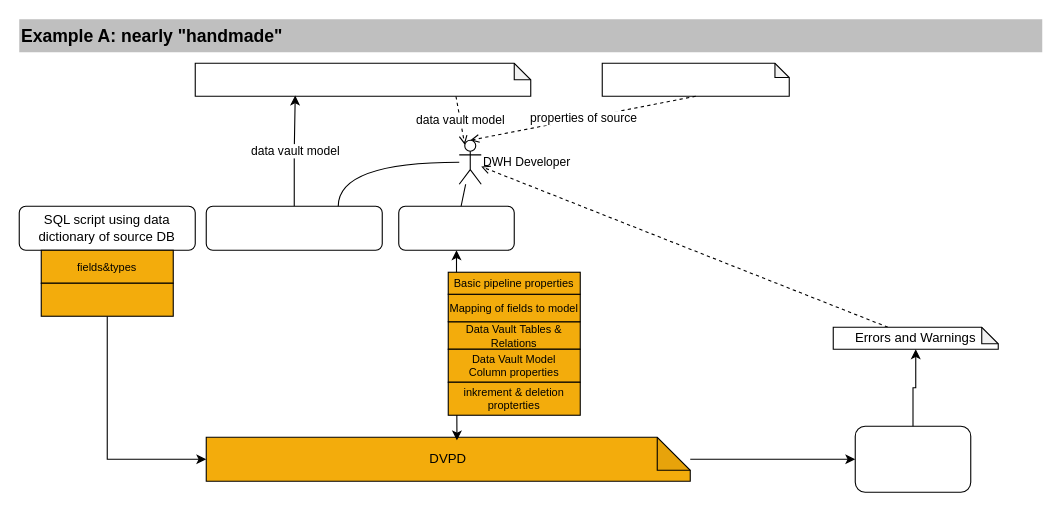
Some shapes in this 1062 by 512 pixel diagram are drawn without their labels. Each missing label, with the box of its shape:
Diagrams.net (Drawing Tool): (205, 205, 382, 250)
DVPD Compiler: (854, 425, 971, 492)
Fetch properties of fields: (40, 282, 173, 316)
Model Documentation: (194, 62, 531, 96)
Source Specification: (601, 62, 789, 96)
Text Editor: (398, 205, 514, 250)
